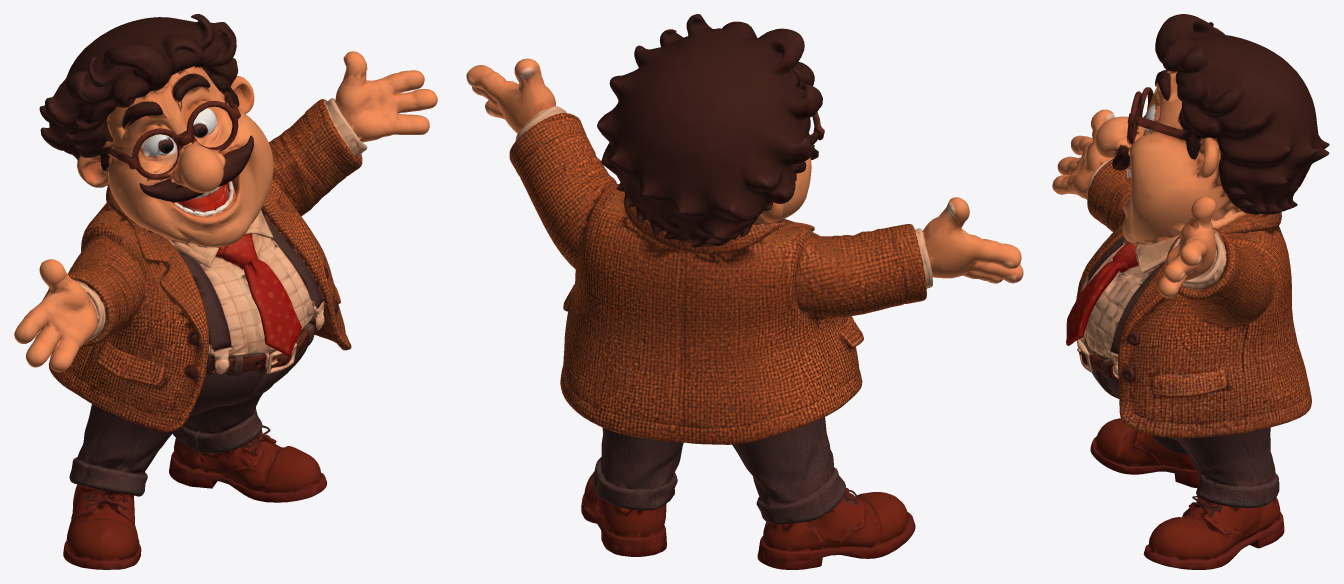
Rendered from alegre.glb.
3 renders of one model, left to right at view 1: azimuth 30°, elevation 25°; view 2: azimuth 150°, elevation 25°; view 3: azimuth 270°, elevation 25°, orthographic. The views are drawn at different scales.
Parts seen in each view (by area): view 1: tripo_node_6e635b6f-e197-4cf0-b057-91e1448fe1a8; view 2: tripo_node_6e635b6f-e197-4cf0-b057-91e1448fe1a8; view 3: tripo_node_6e635b6f-e197-4cf0-b057-91e1448fe1a8.
Part boxes in pixels (box(x1,y1,x2,y2)): tripo_node_6e635b6f-e197-4cf0-b057-91e1448fe1a8: box(14, 14, 437, 569); tripo_node_6e635b6f-e197-4cf0-b057-91e1448fe1a8: box(466, 14, 1023, 569); tripo_node_6e635b6f-e197-4cf0-b057-91e1448fe1a8: box(1052, 14, 1329, 569).
Size of the model in its own units: 0.967 by 0.9683 by 0.5106.
1 material, 1 textured.
